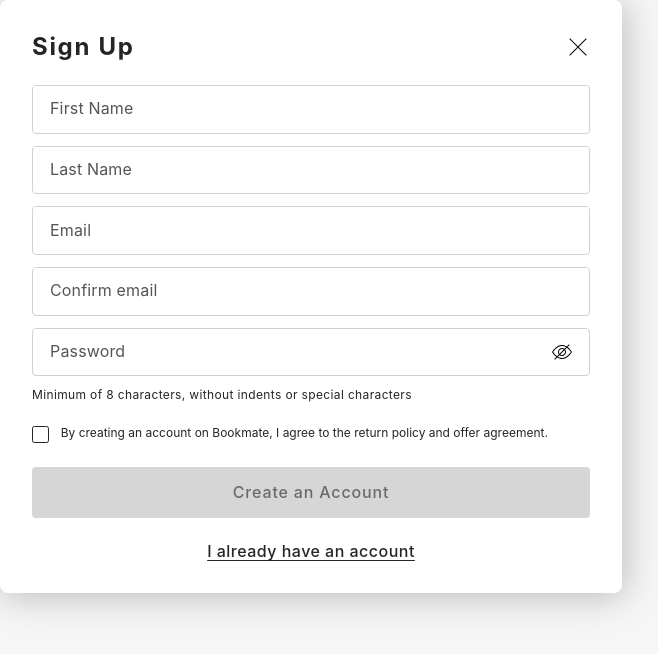
Test case: RegisterForm component › Validation logic › should display error when first name is empty
Expected: the text "This field is required" is not shown
Expected: the field named "firstName" is shown, [32,85,590,134]
Click the text "First Name" at (311, 109), box [34,86,588,132]
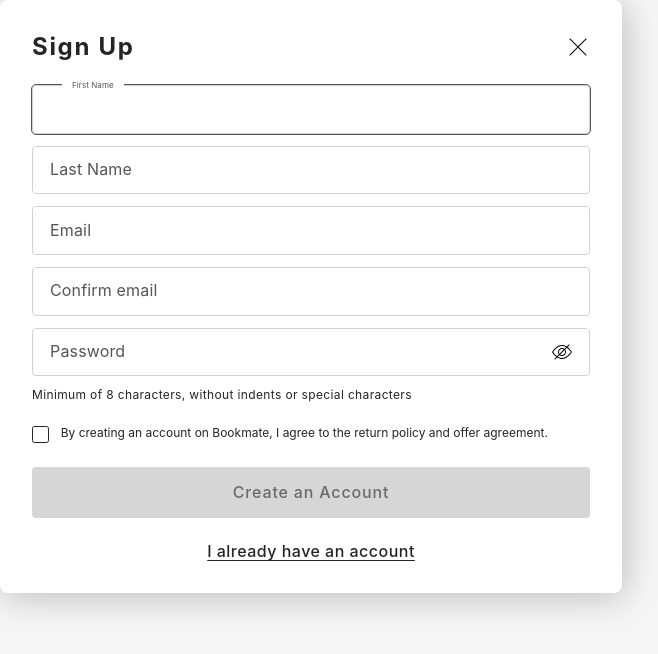
Click the button "Create an Account" at (311, 492), box [32,467,590,518]
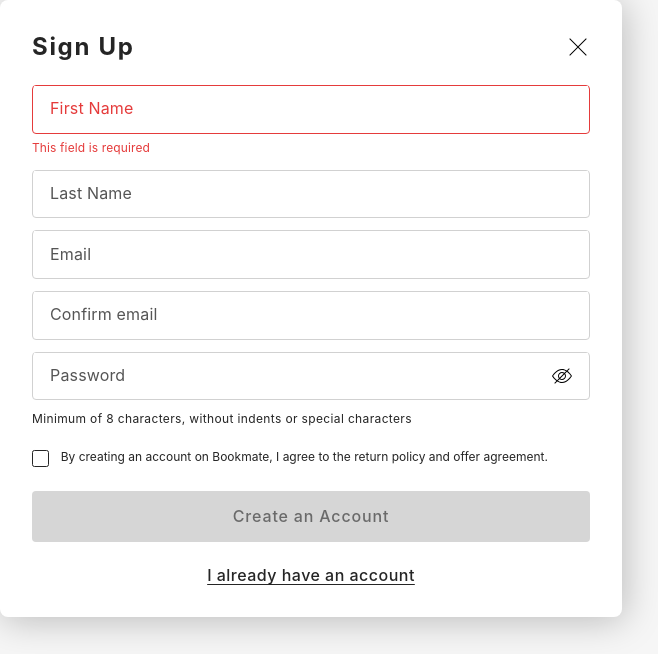
Expected: the text "The name must start with a capital letter" is not shown
Now the text "This field is required" is shown, box [32,140,150,155]
Type "s" into the field named "firstName" at (311, 109), box [32,85,590,134]
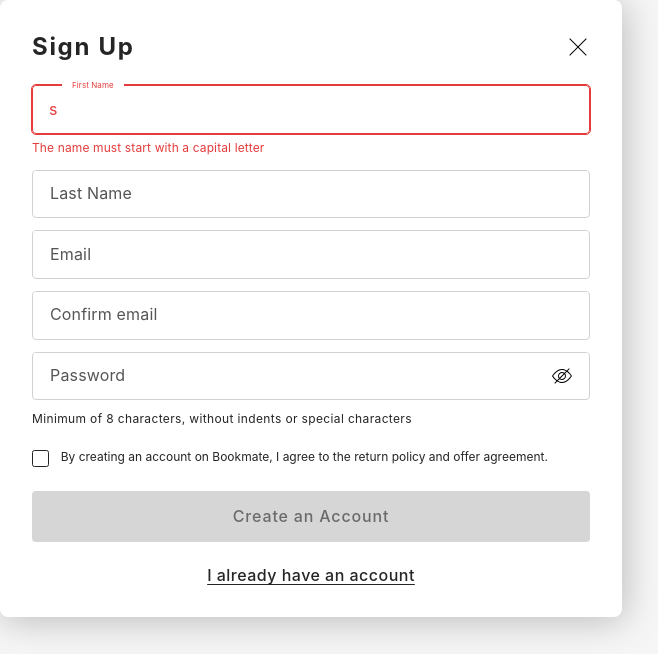
Now the text "This field is required" is gone
Now the text "The name must start with a capital letter" is shown, box [32,140,264,155]
